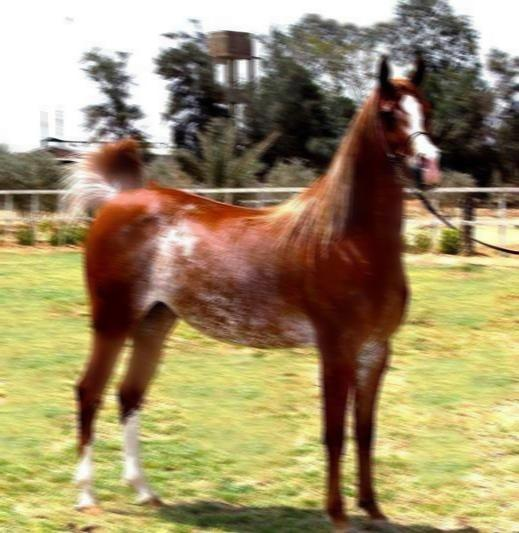horse: (53, 53, 443, 532)
